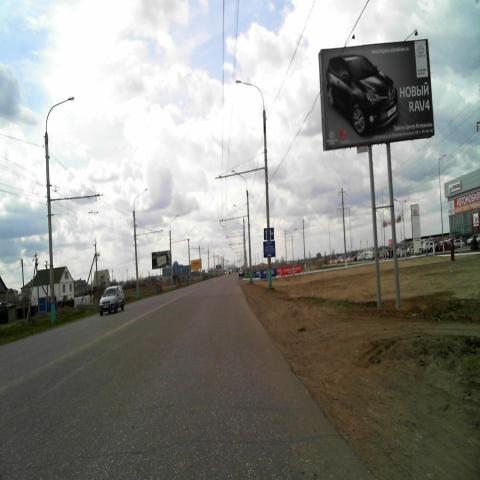5_15_2_2: (264, 228, 273, 240)
